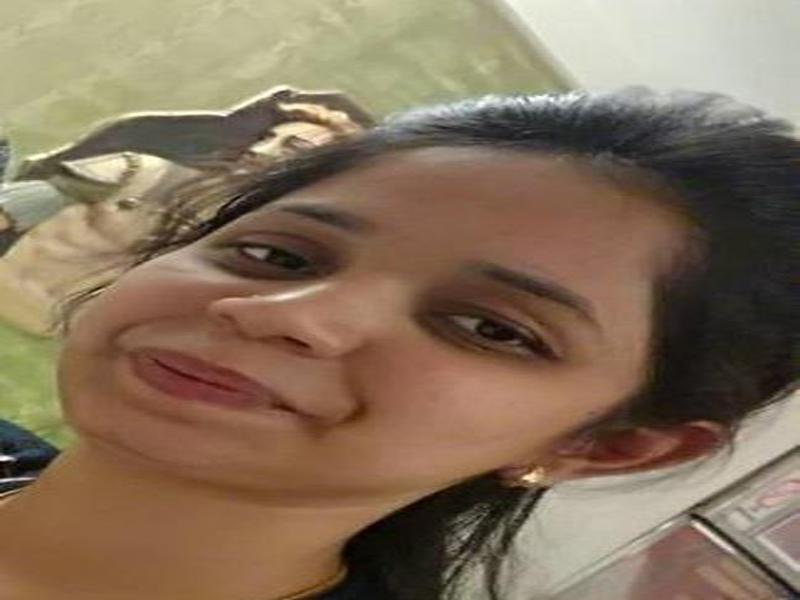without_mask: (55, 142, 642, 506)
